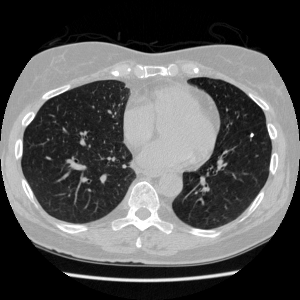nodule: (250, 133, 254, 137)
